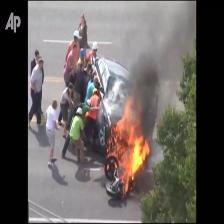fire: (109, 84, 150, 192)
